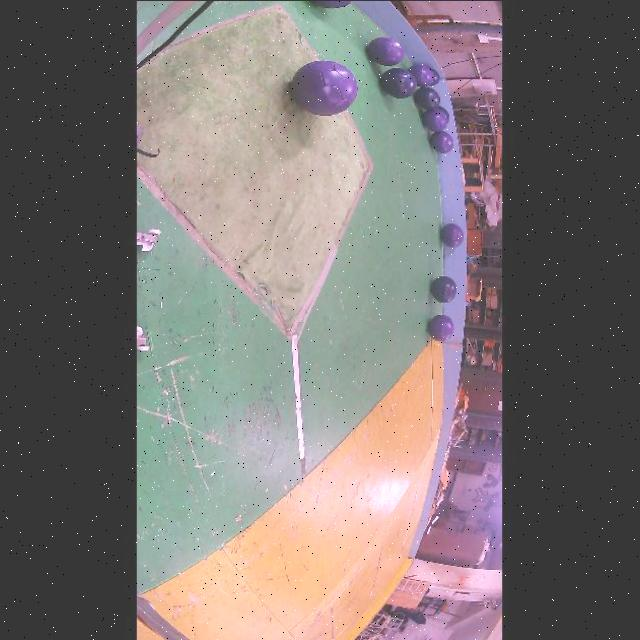B: (381, 68, 418, 98), (432, 275, 457, 302), (414, 85, 441, 109)
P: (291, 60, 358, 115), (369, 36, 405, 65), (428, 314, 455, 341), (441, 222, 465, 247), (423, 108, 449, 131), (431, 130, 455, 153), (409, 64, 435, 85)
